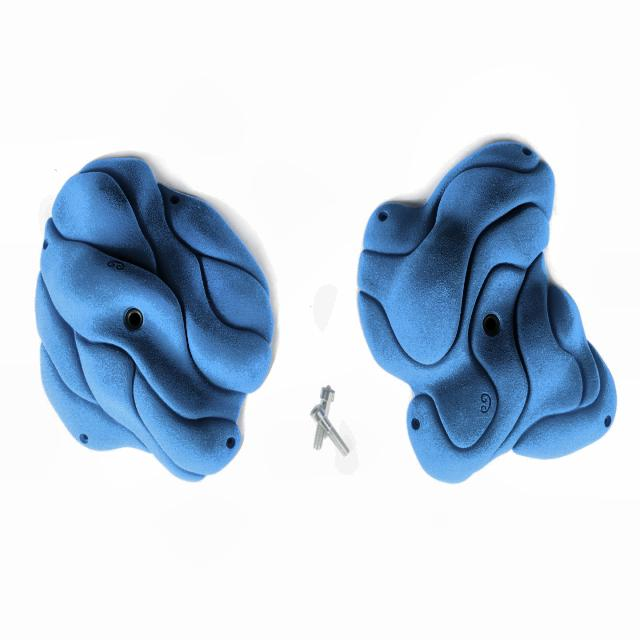Hold: (356, 132, 622, 482), (37, 153, 273, 482)
